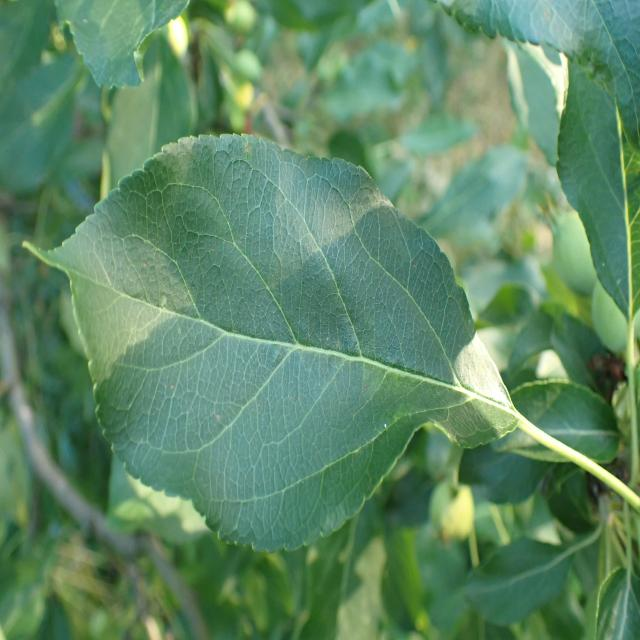healthy: (24, 132, 520, 553), (428, 0, 639, 156), (557, 53, 640, 320), (56, 0, 190, 90), (456, 536, 576, 626)
